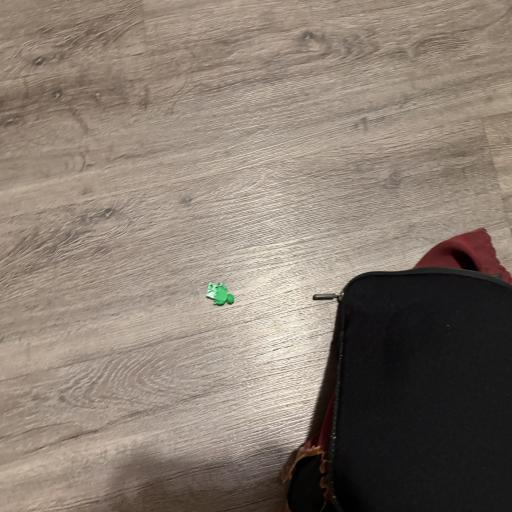Minifig: (207, 283, 234, 305)
